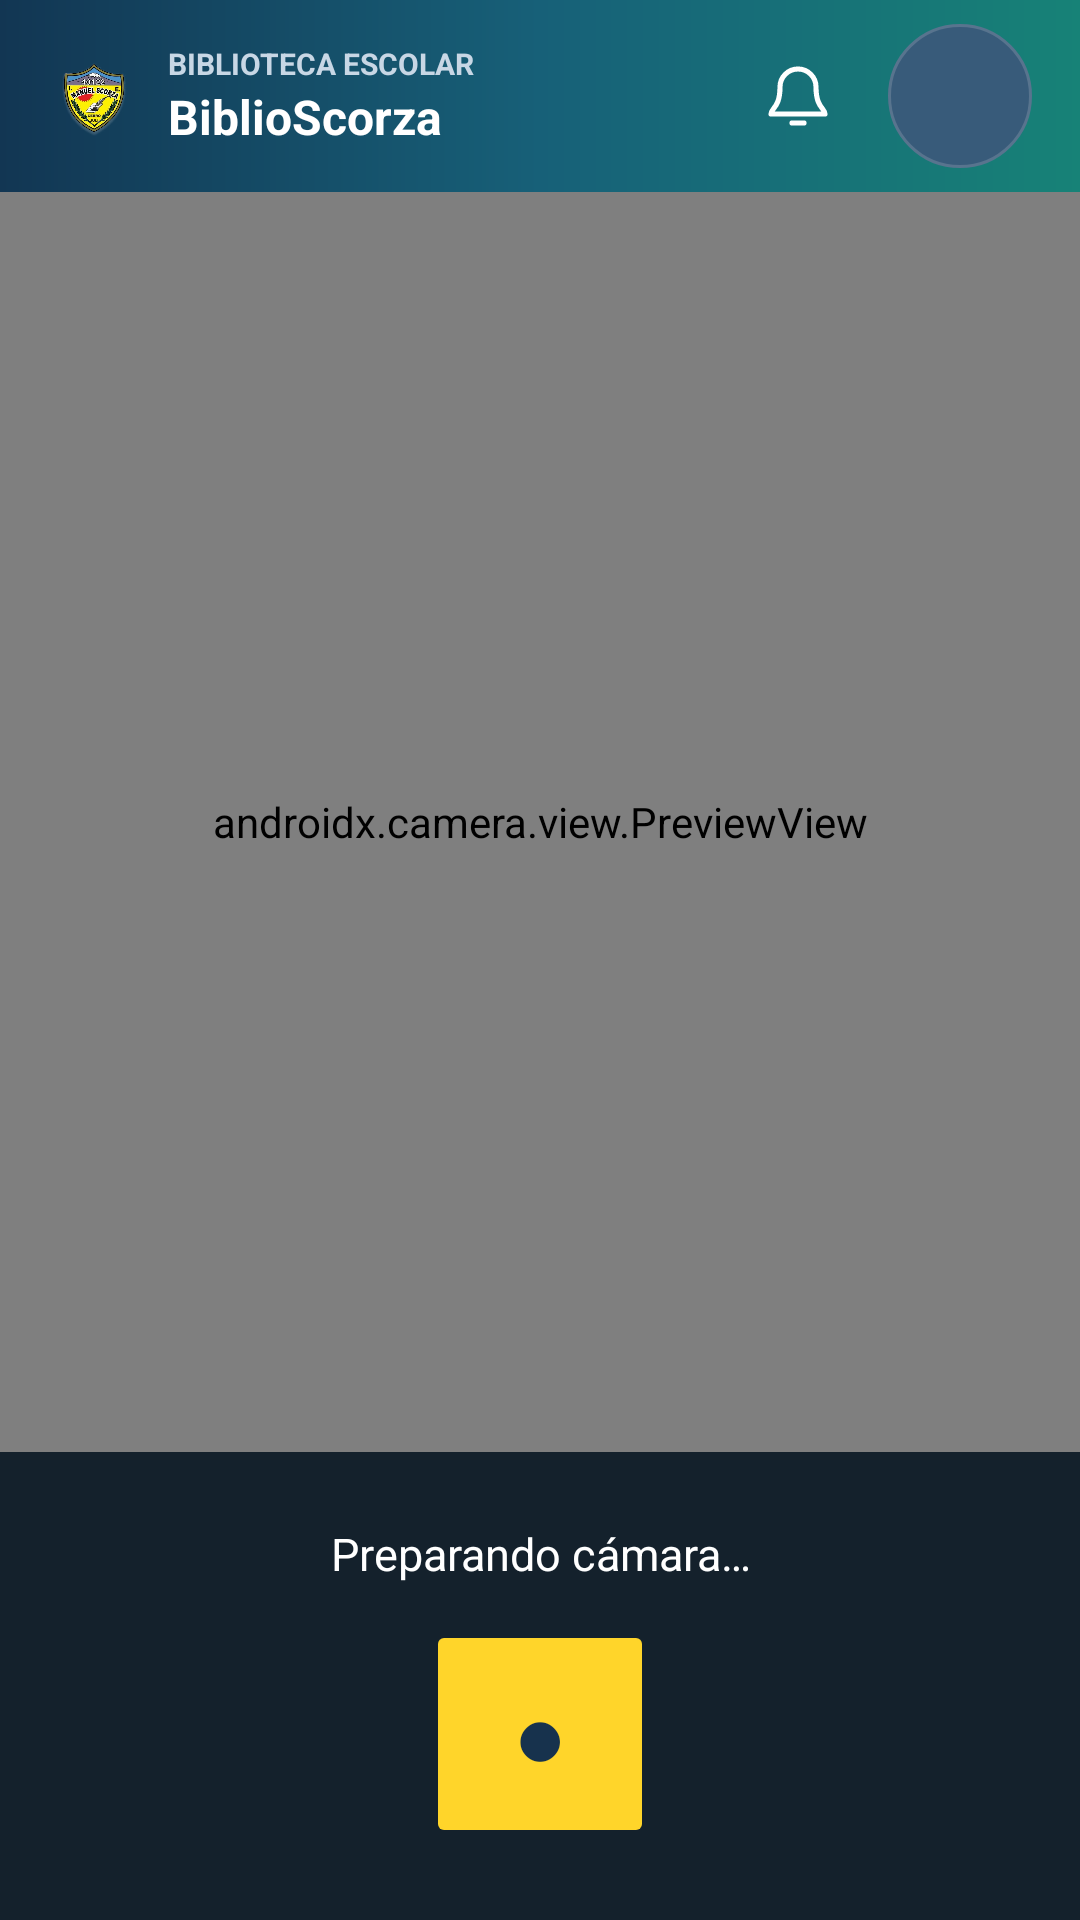

Where to tap for icons on this 1080px x 1920px app screen, as point (x, y):
notifications: point (798, 96)
